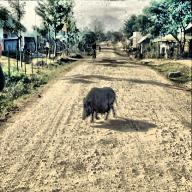boar: (82, 87, 117, 121)
